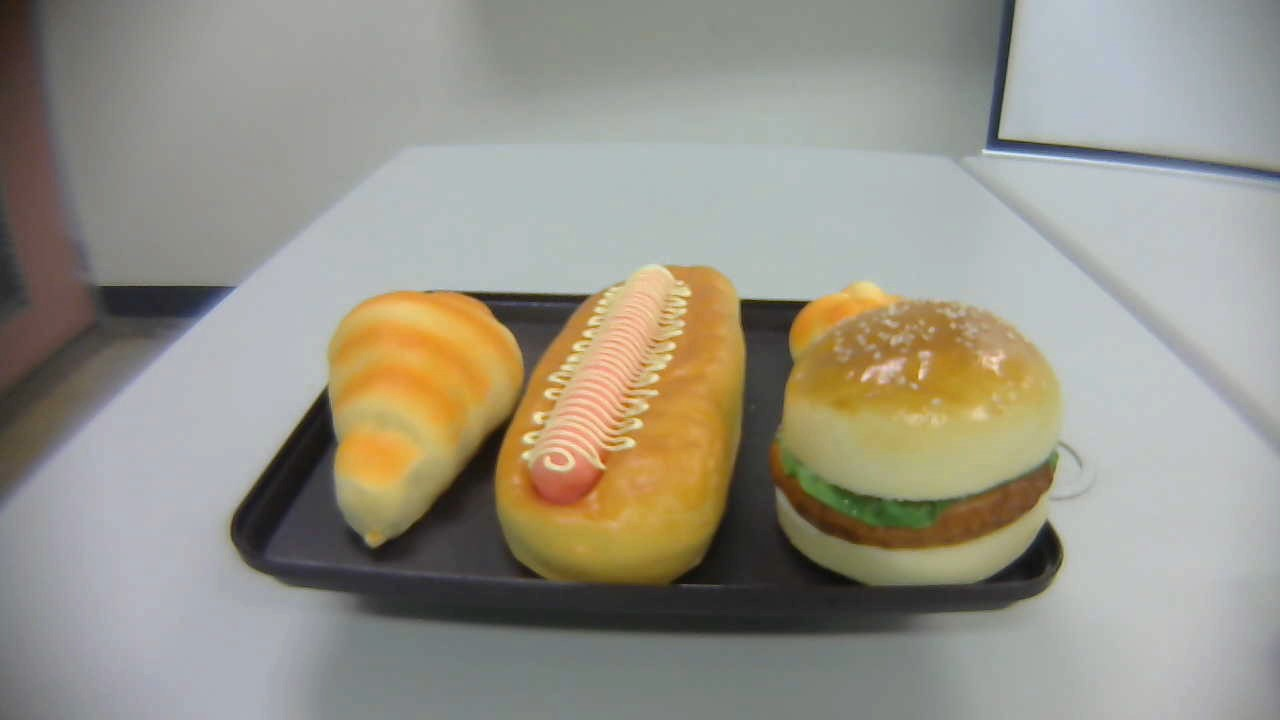croissant: (326, 290, 525, 547)
hamburger: (770, 301, 1062, 591)
hot dog: (494, 263, 747, 586)
twist bread: (788, 282, 946, 383)
